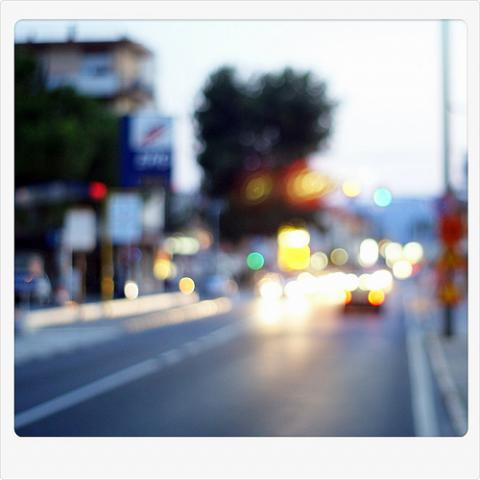car: (338, 289, 380, 315)
